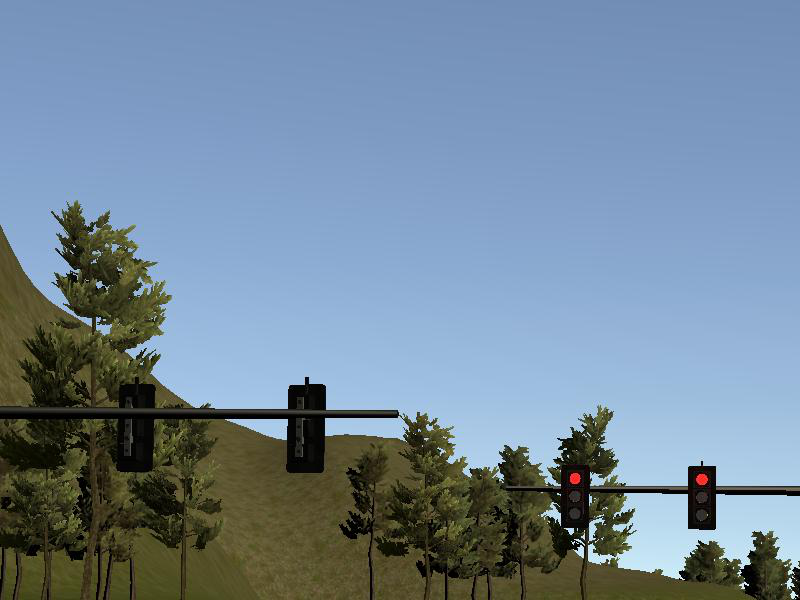red: (562, 462, 590, 527), (687, 464, 715, 529)
